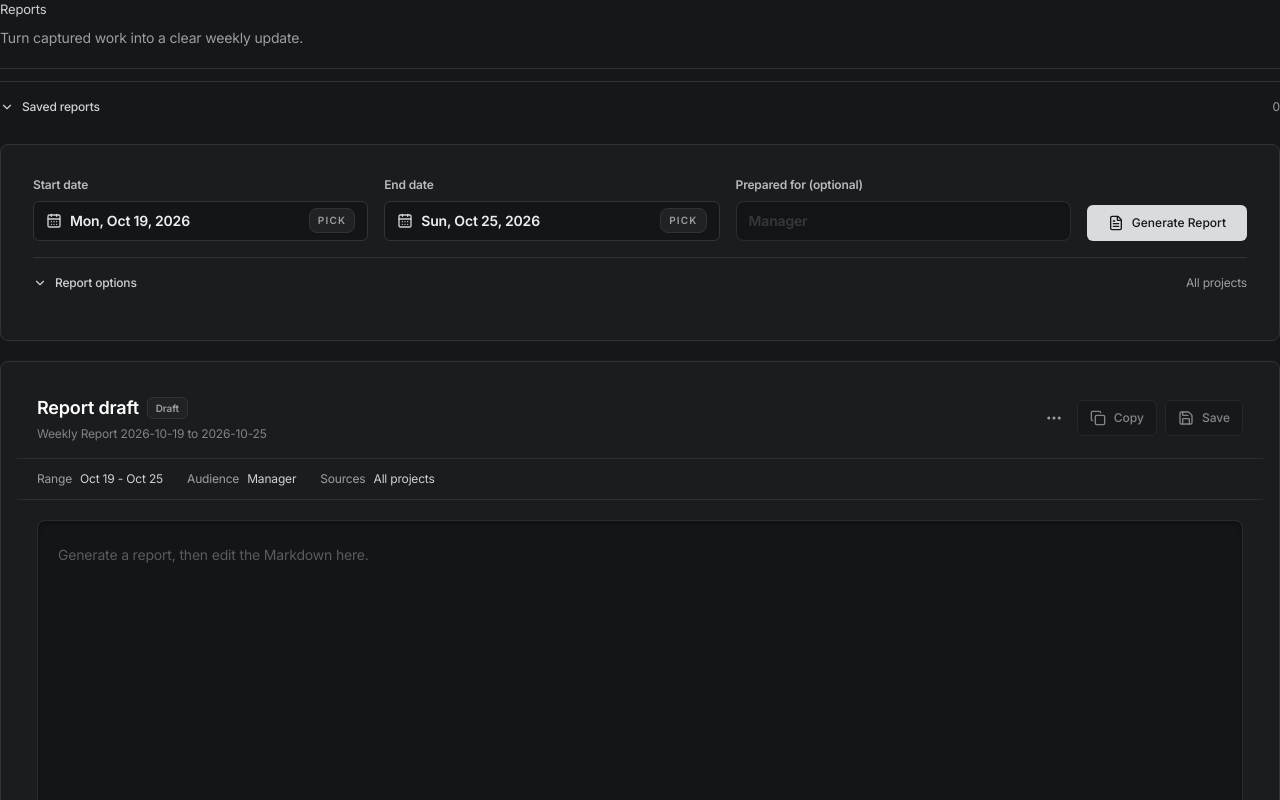
Test: progressive Developer workflows › loads a saved report into the same editable draft
Click the button "Saved reports 0": [61, 106] box x1=0 y1=92 x2=1279 y2=122
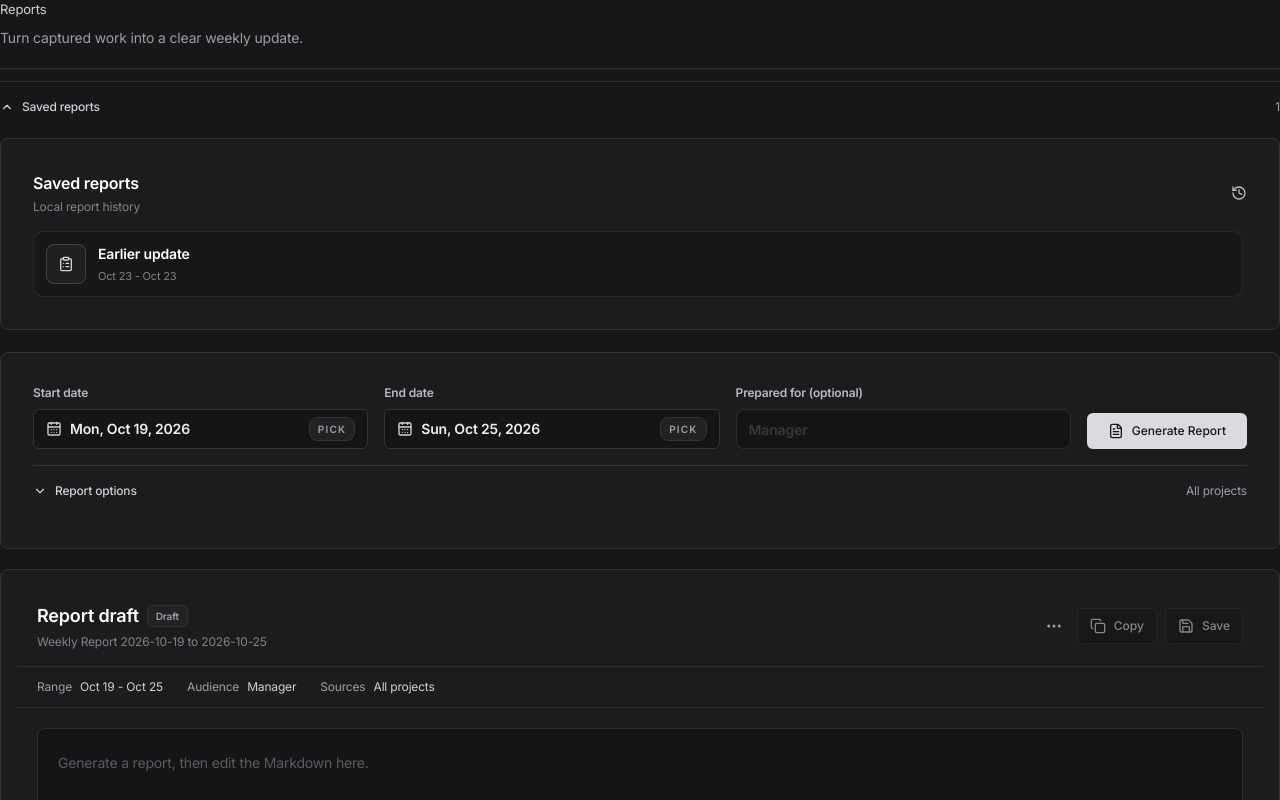
Click the button "Earlier update Oct 23 - Oct 23": [66, 264] box x1=33 y1=230 x2=1243 y2=297
(page scrolled)
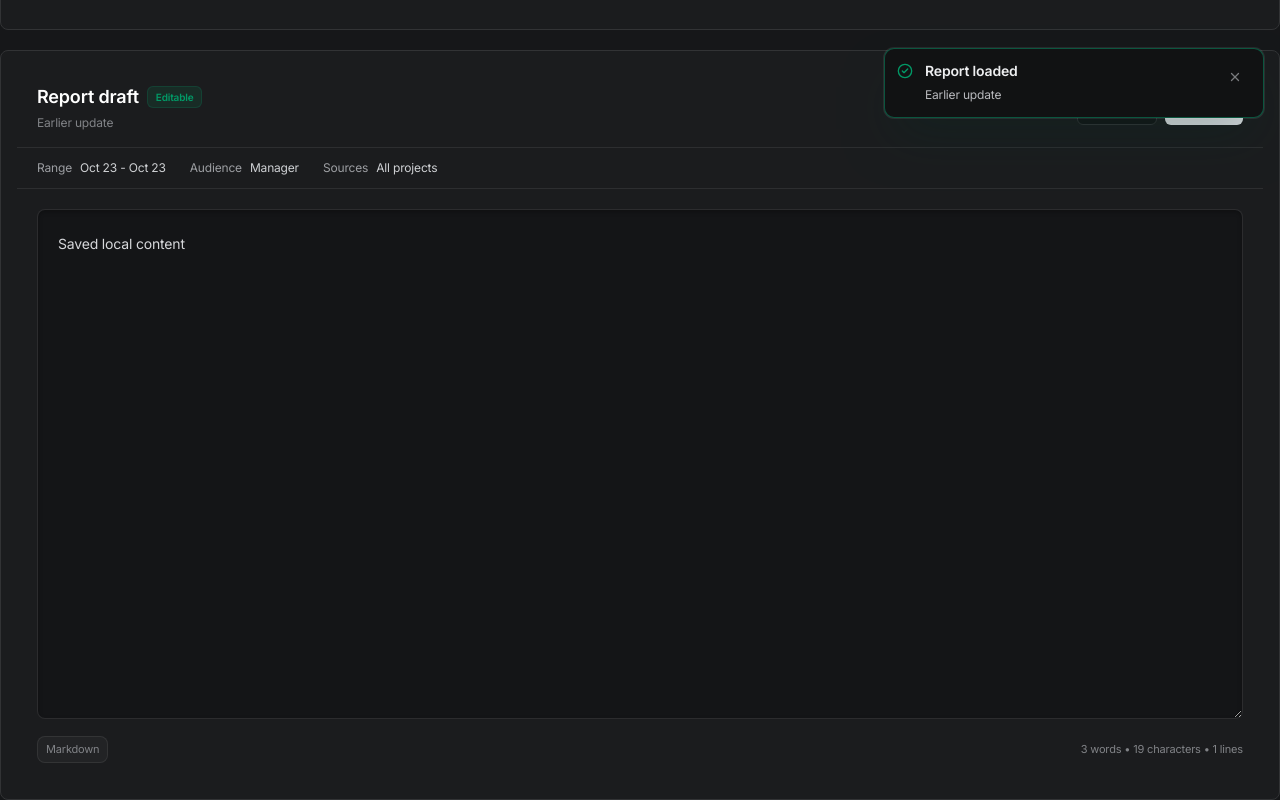
Expected: the text box named "Report draft" holds "Saved local content"
